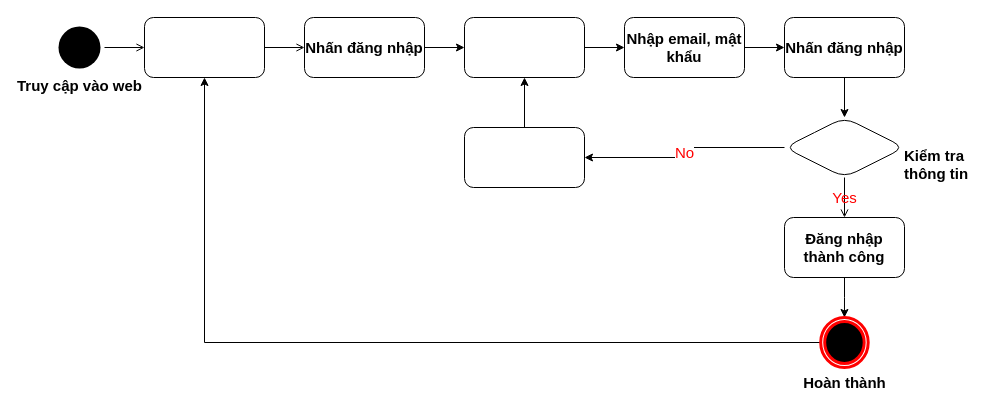
Image size: 986x410. Some labels were removed from this diagram. The shapes that lost their labels are listed below. From the top down, each one's centre as x and y in pixels, then its label:
At (204,47): "View trang chủ".
At (524,47): "View đăng nhập".
At (524,157): "Đăng nhập thất bại".
